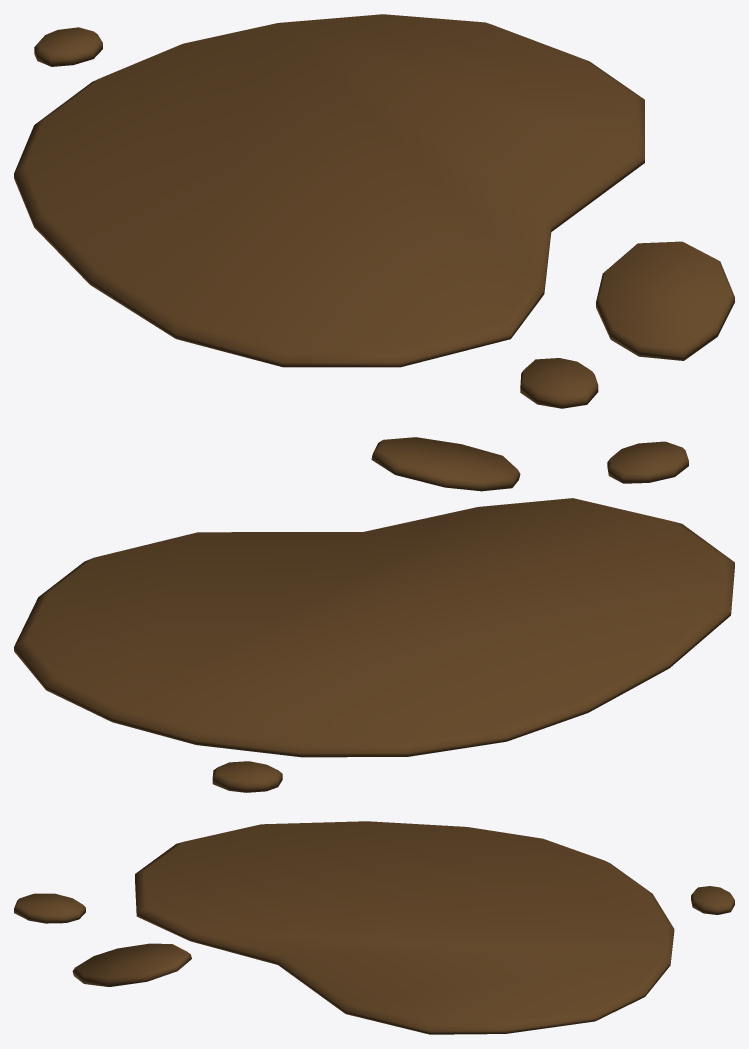
File: lama.fbx
3 renders of one model, top to bottom at view 1: azimuth 30°, elevation 25°; view 2: azimuth 150°, elevation 25°; view 3: azimuth 270°, elevation 25°, orthographic. The views are drawn at different scales.
Parts seen in each view (by area): view 1: Cylinder.001; view 2: Cylinder.001; view 3: Cylinder.001.
Part boxes in pixels (<box>): Cylinder.001: <box>14,14,734,408</box>; Cylinder.001: <box>14,437,734,792</box>; Cylinder.001: <box>14,821,734,1034</box>.
Bounding box in the file's own units: 711 × 486 × 39.86.
